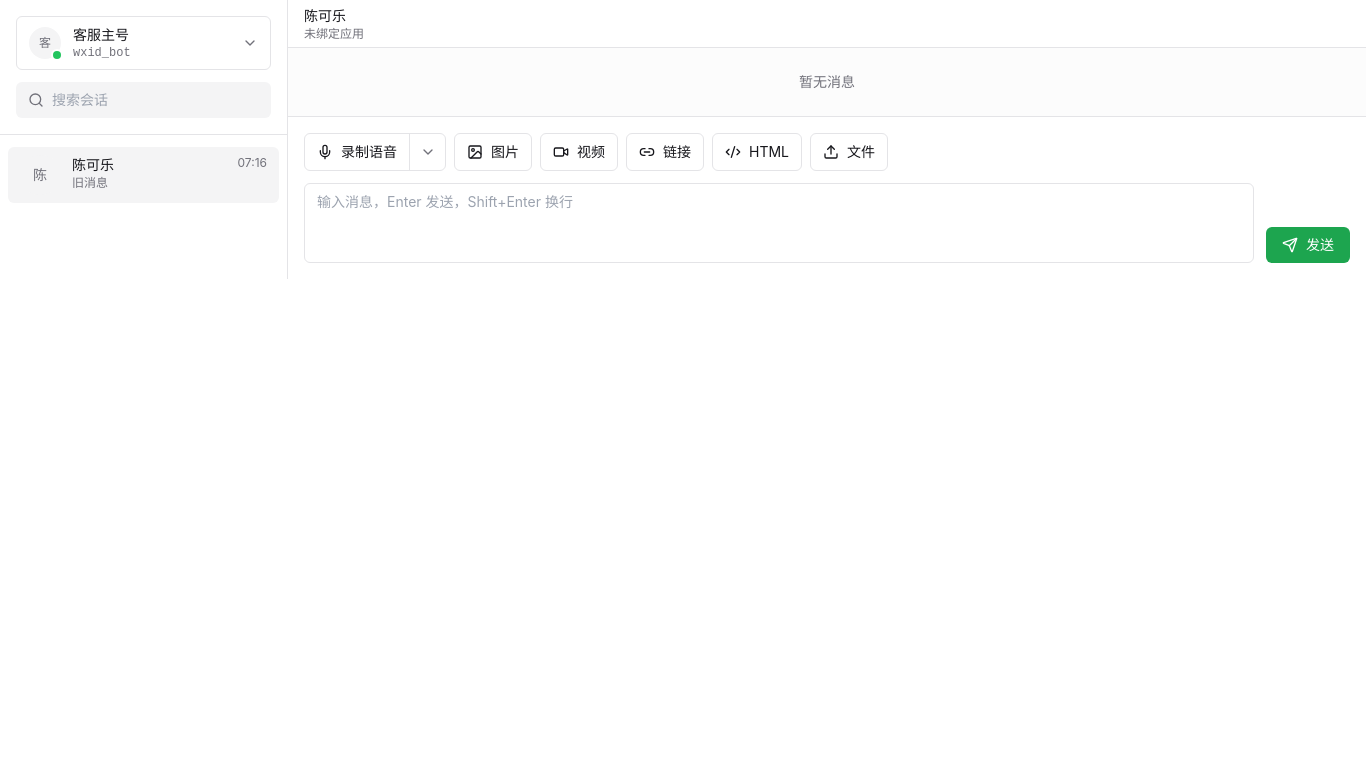
Test: WorkbenchPage composer › 链接表单支持解析链接并回填标题描述
Expected: the text "客服主号" is shown, 73,26 -> 129,43
Click the button "链接" at (665, 152), box 626,133 -> 704,171
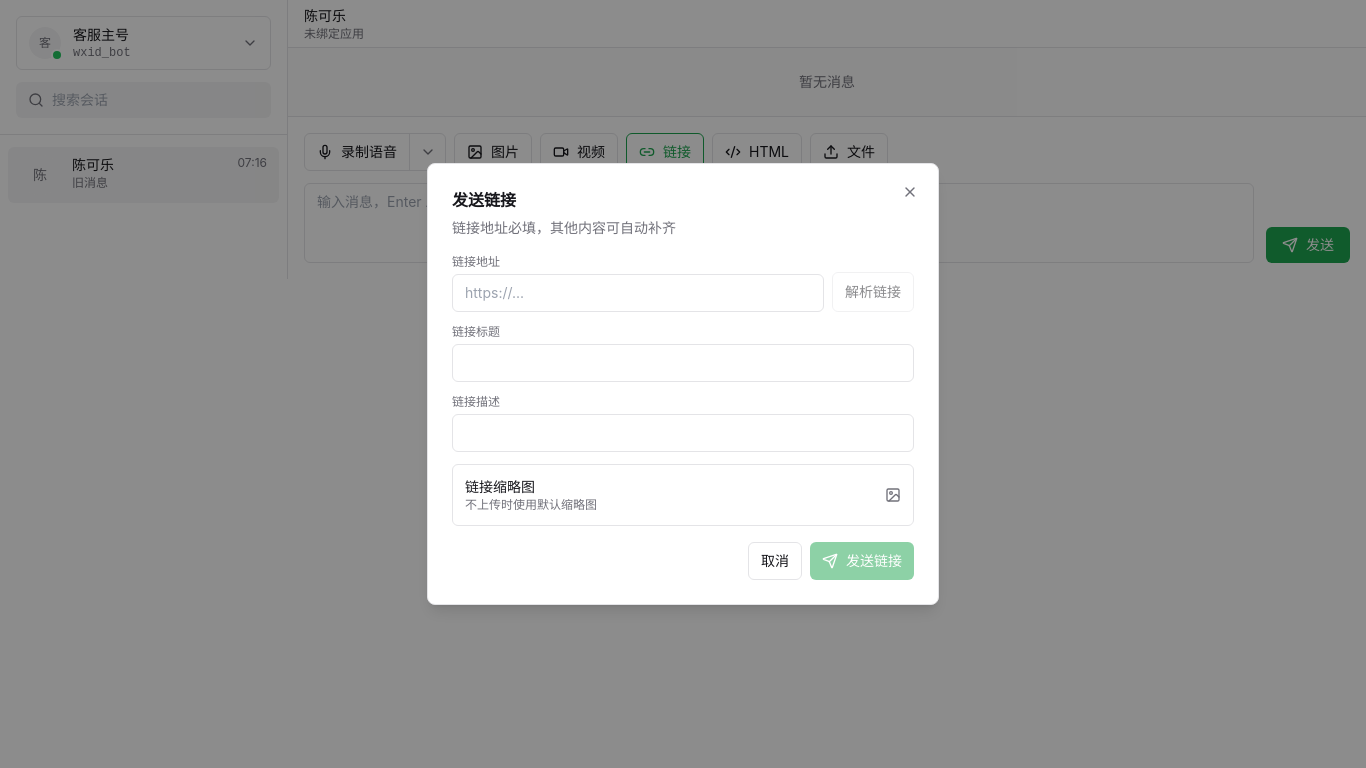
Type "https://example.com/article" into the field labelled "链接地址" at (638, 293), box 452,274 -> 824,312
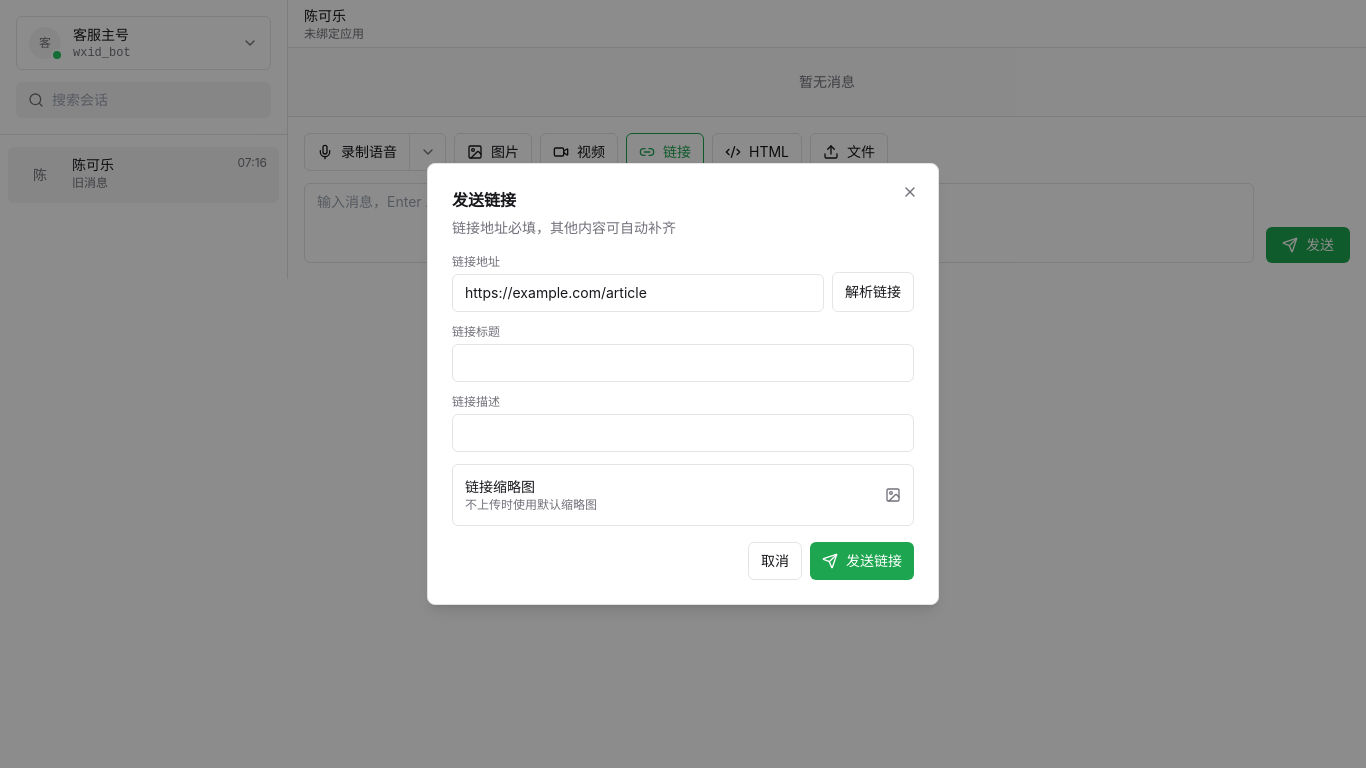
Click the button "解析链接" at (873, 292), box 832,272 -> 914,312
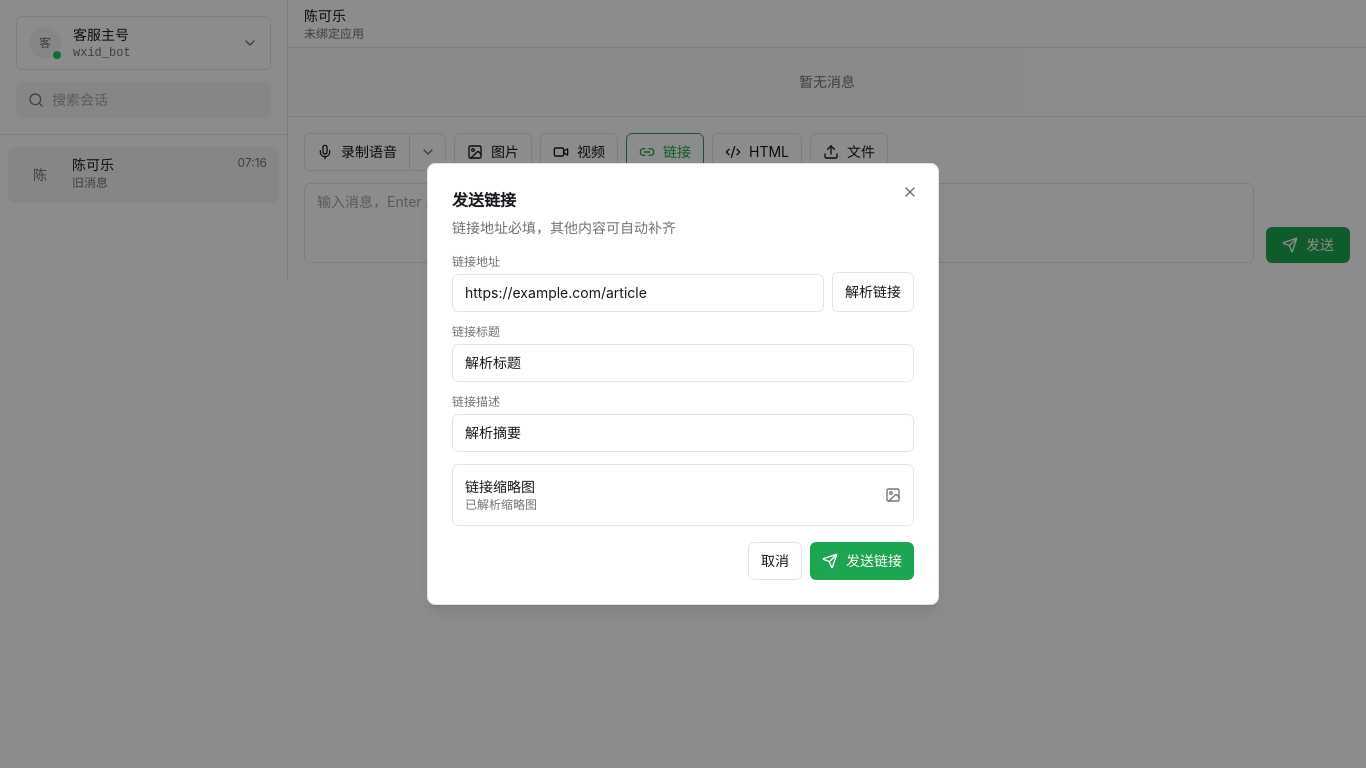
Now the field labelled "链接标题" holds "解析标题", box 452,344 -> 914,382
Now the field labelled "链接描述" holds "解析摘要", box 452,414 -> 914,452
